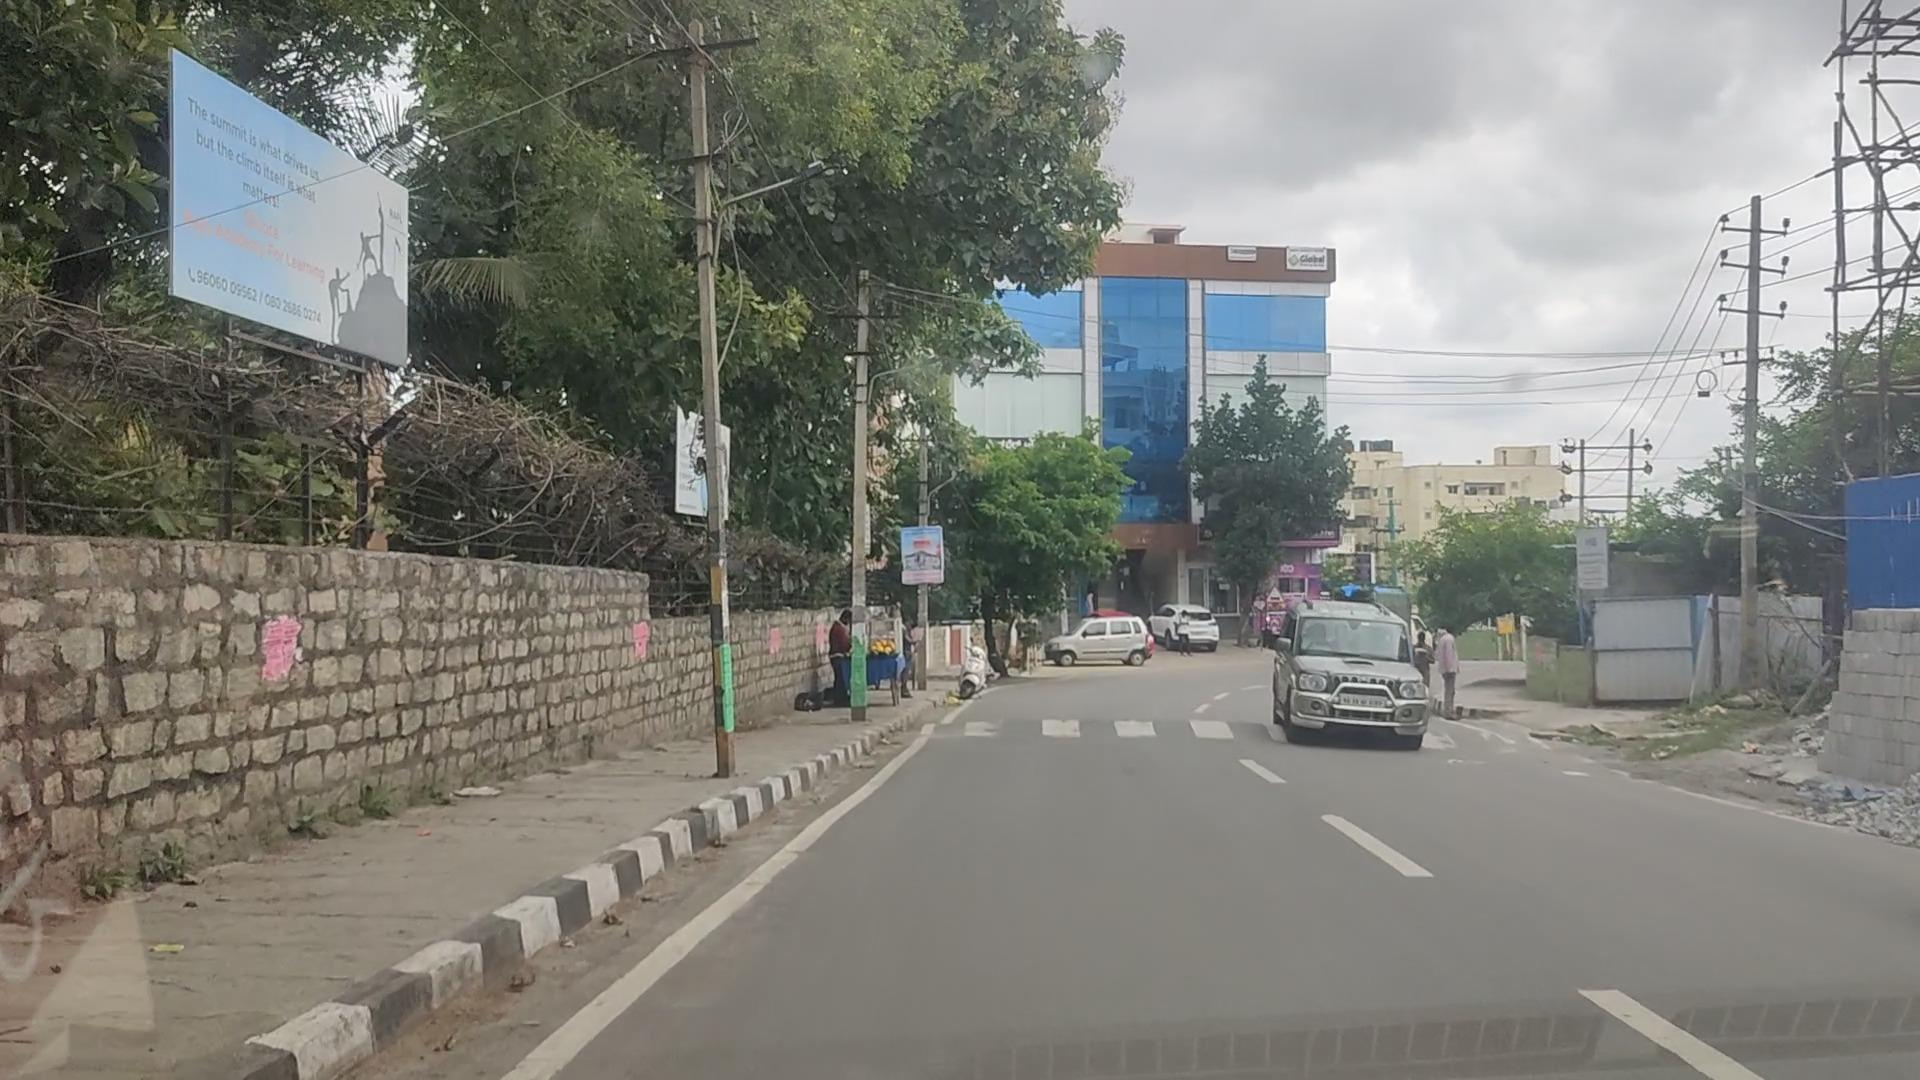LMV: (1283, 599, 1428, 748)
SpeedBump: (931, 711, 1279, 744), (1427, 720, 1544, 762)
